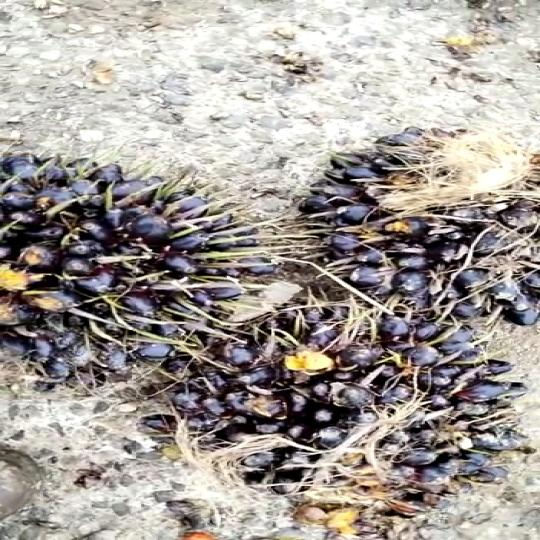mentah: (135, 306, 527, 522), (0, 142, 218, 402), (273, 125, 540, 324)
